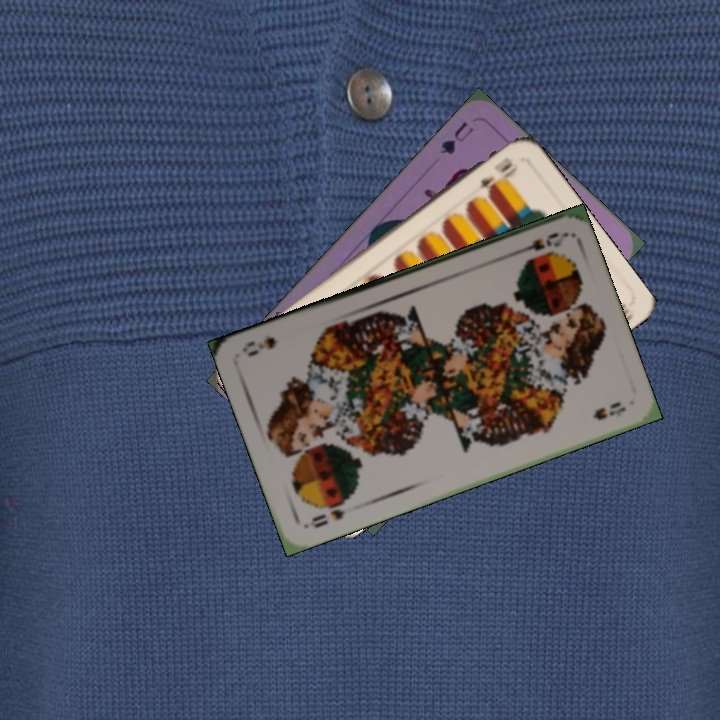E10: (475, 153, 520, 194)
GU: (436, 117, 477, 157)
SO: (510, 228, 568, 258), (301, 497, 348, 531)
